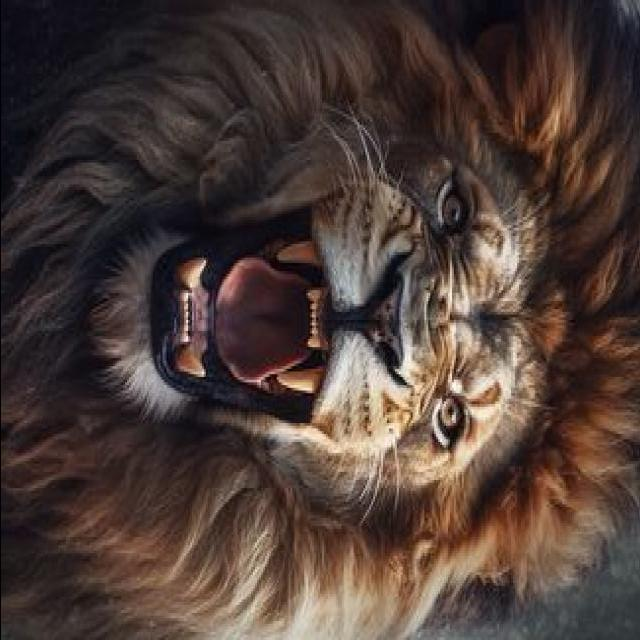lions: (10, 24, 640, 640)
